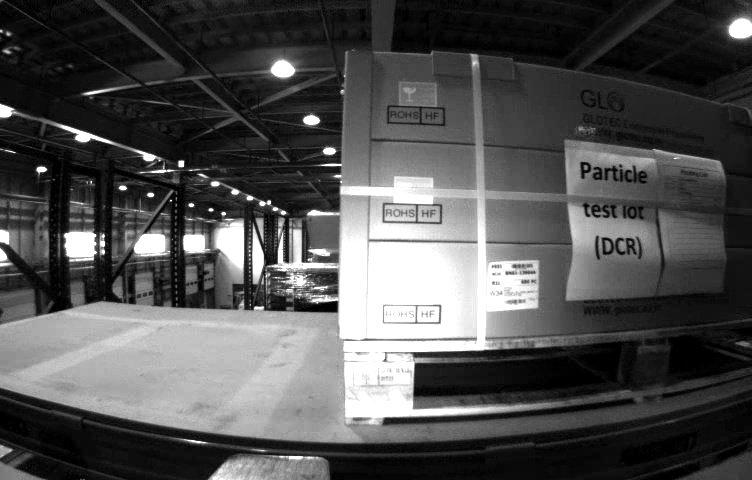True Barcode: (485, 260, 535, 309)
